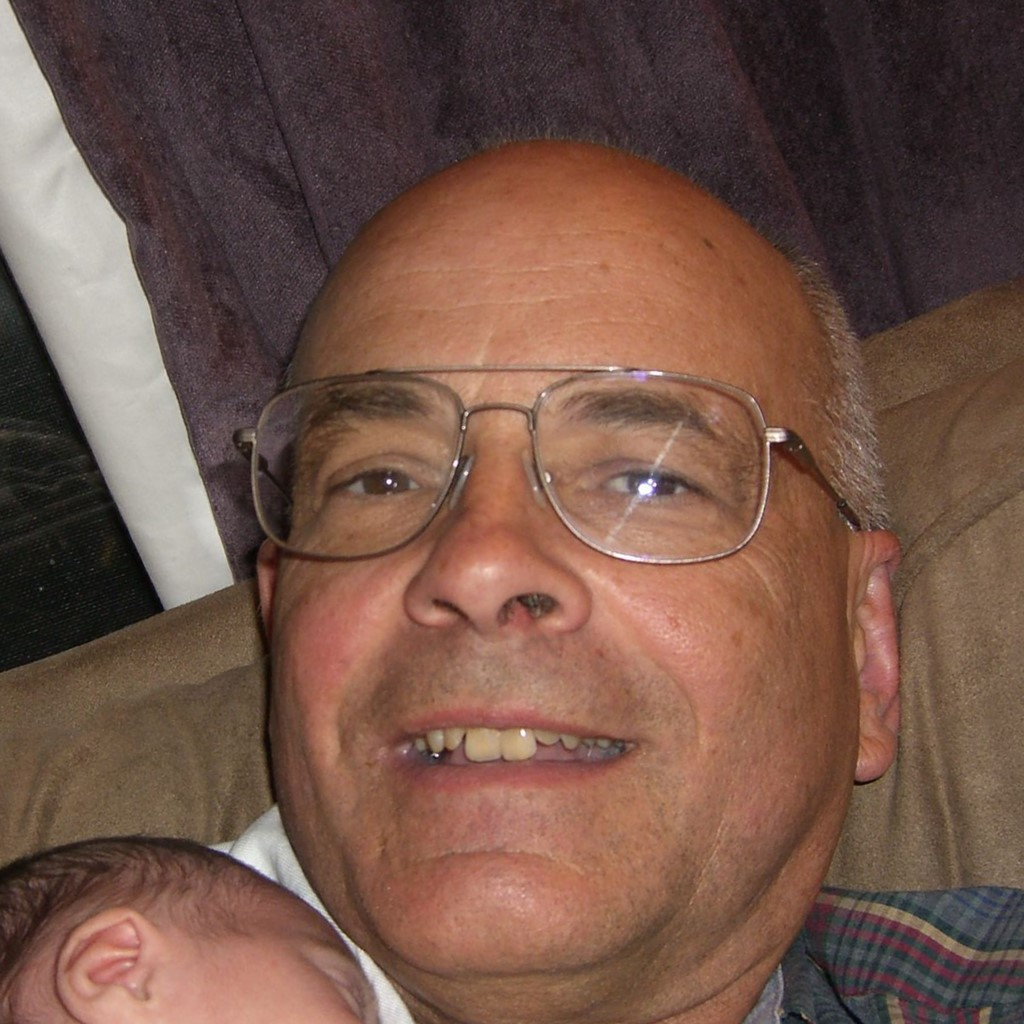sin_mascara: (266, 213, 888, 987)
